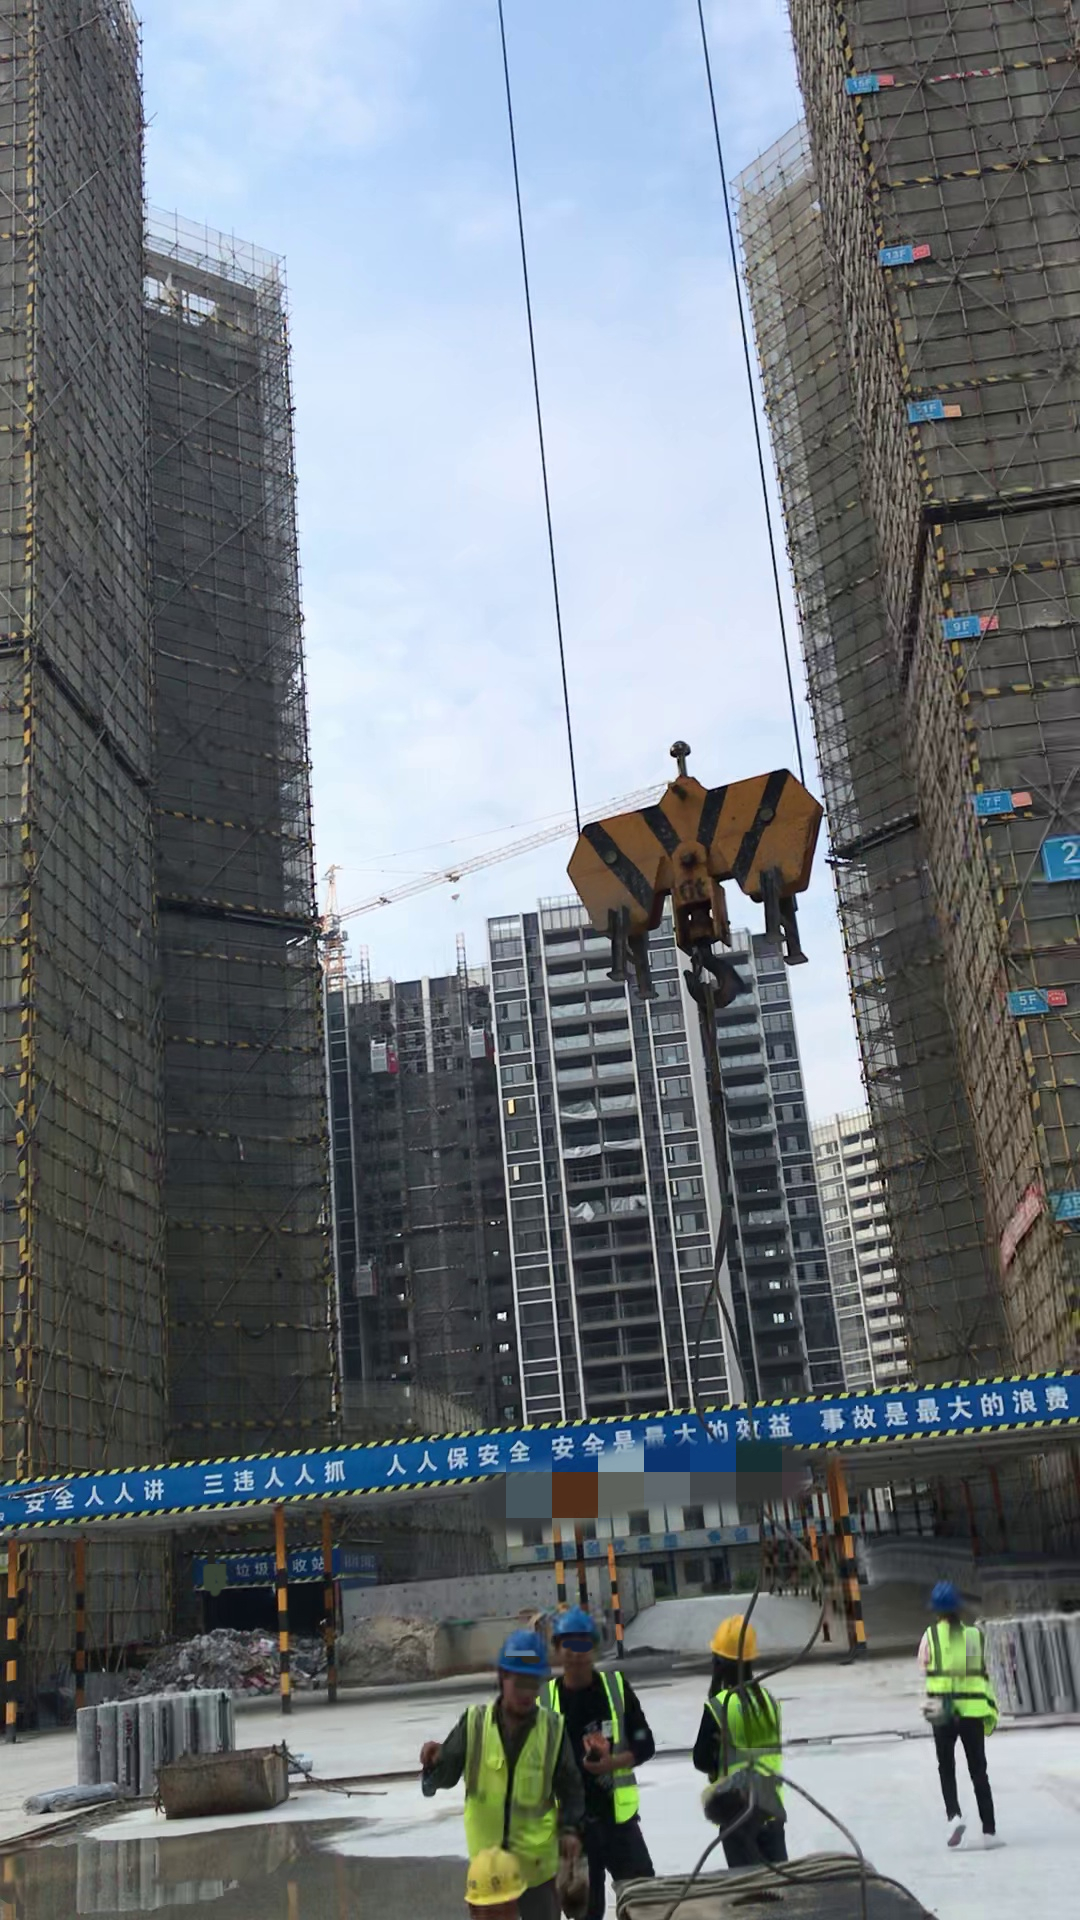helmet: (451, 1847, 543, 1920), (705, 1610, 770, 1668), (489, 1627, 551, 1683), (548, 1608, 609, 1644), (927, 1576, 975, 1612)
person: (417, 1618, 581, 1895), (904, 1569, 1028, 1872), (551, 1601, 663, 1877), (692, 1607, 802, 1851)
vest: (549, 1669, 646, 1836), (464, 1697, 563, 1859), (702, 1686, 794, 1815), (921, 1619, 1004, 1741)
